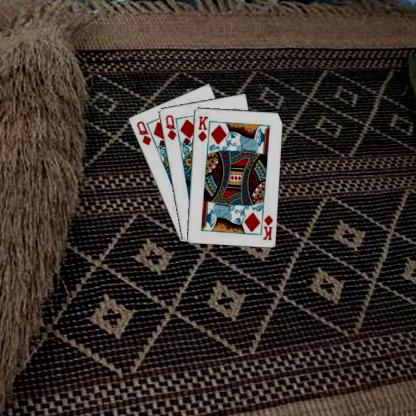KD: (260, 212, 274, 241), (196, 113, 209, 143)
QD: (134, 118, 152, 146), (162, 112, 178, 142)
